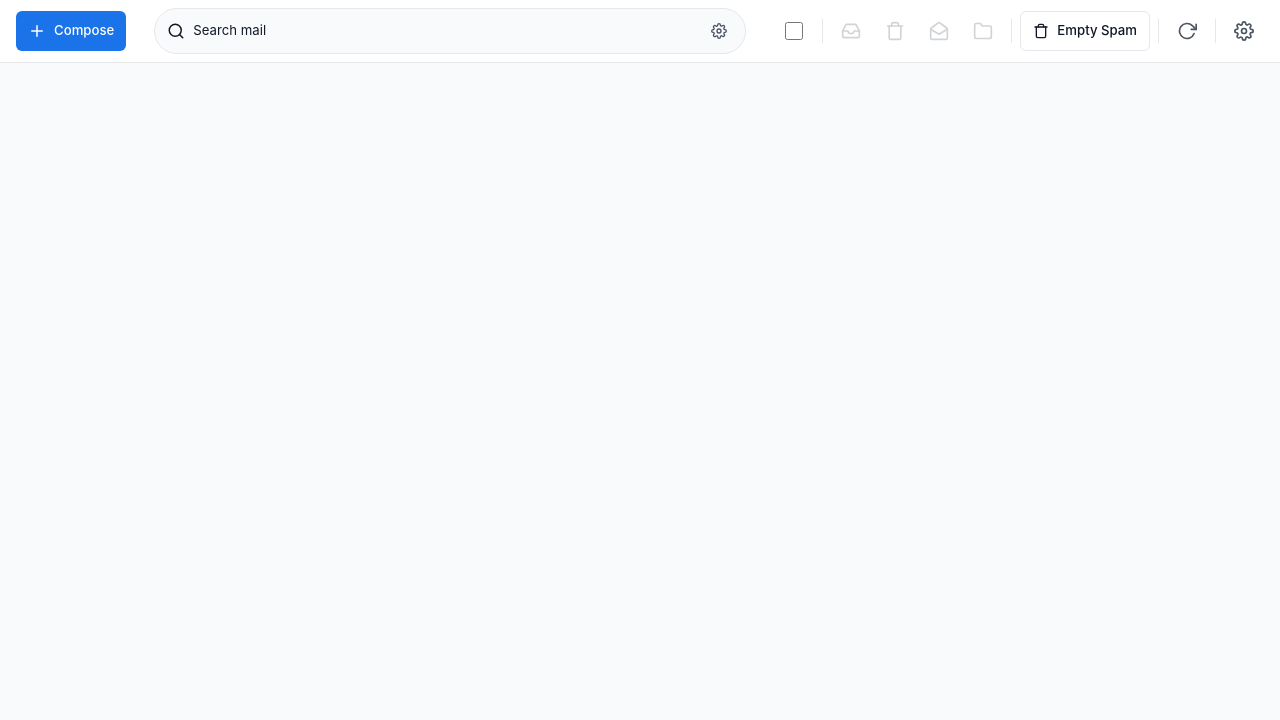
Test: Toolbar - Spam folder › opens confirmation dialog when Empty Spam is clicked
Click the button "Empty Spam" at {"x": 1085, "y": 31}, box [1020, 11, 1150, 51]
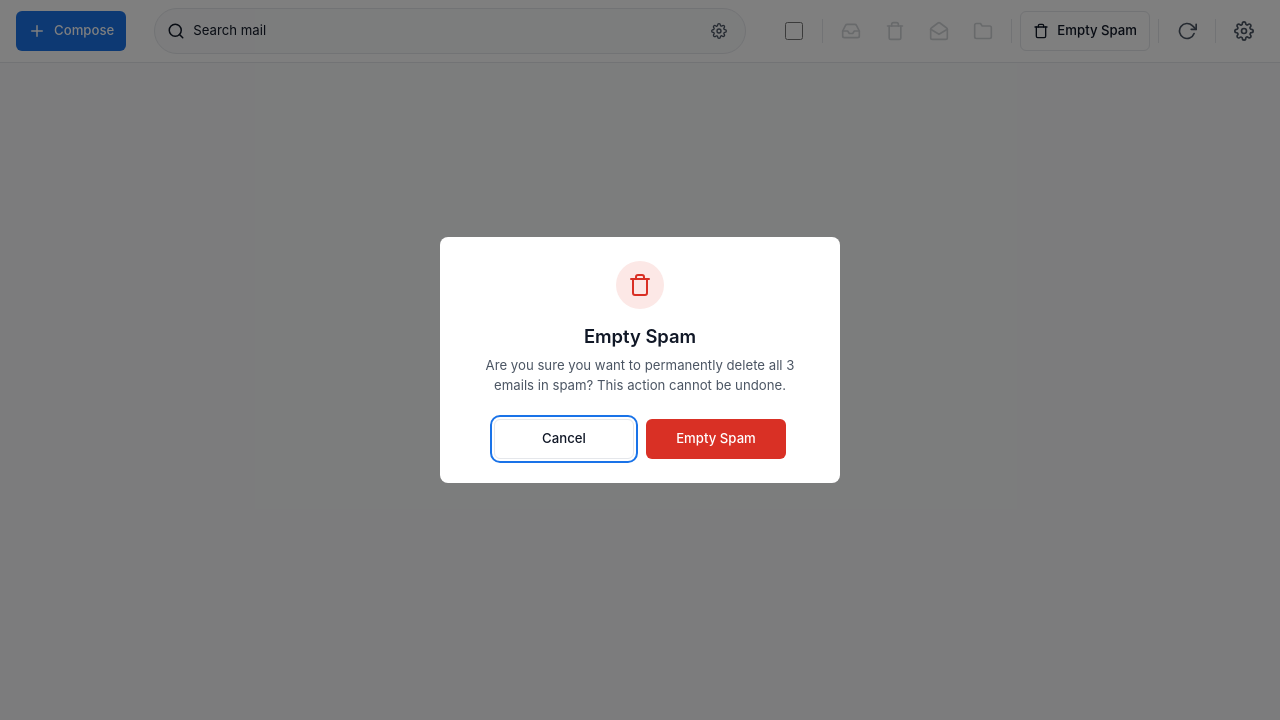
Now the dialog is shown, box [440, 237, 840, 483]
